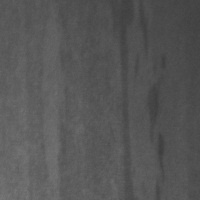inclusion: (116, 1, 144, 199), (54, 11, 82, 200), (145, 54, 173, 184)
